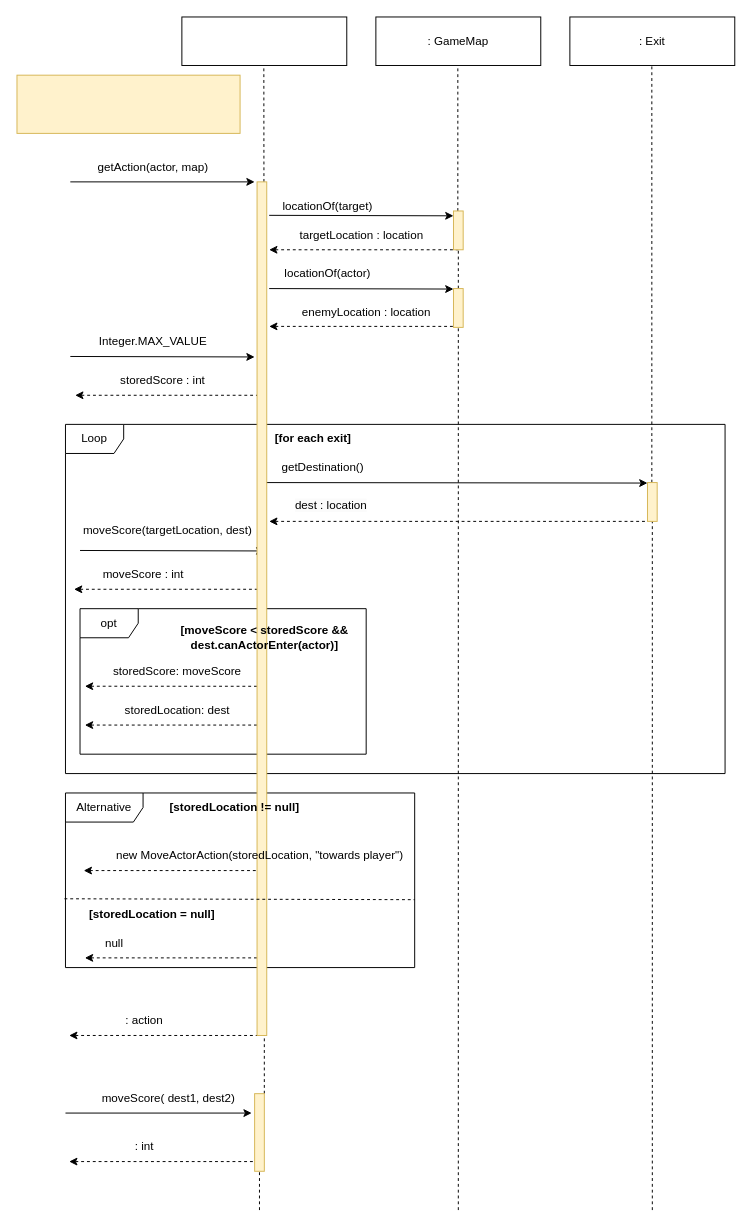
This 752x1228 diagram has some shape labels left out. The centre of each missing label's shape, as x and y in pixels:
: FollowBehavior: (264,40)
This sequence diagram depicts what happens when an enemyActor follows an actor: (128,103)
